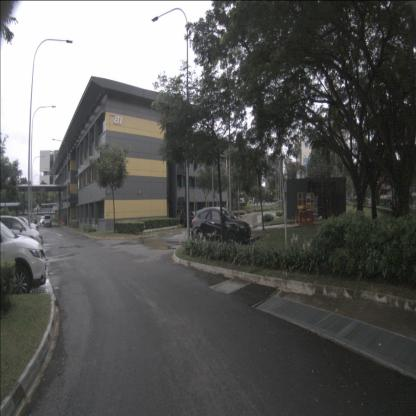movable_object-barrier: (298, 210, 314, 226)
movable_object-trafficcone: (294, 213, 298, 224)
vehicle-car: (0, 221, 46, 297), (190, 206, 252, 247), (0, 216, 43, 256), (180, 212, 203, 228), (43, 215, 52, 227), (40, 216, 46, 225)
